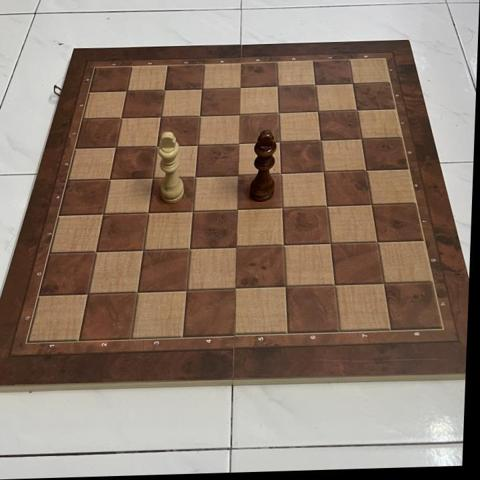xcorner: (269, 77, 287, 95), (309, 102, 327, 120), (312, 131, 330, 149), (187, 167, 205, 185), (363, 195, 381, 213), (345, 74, 362, 92), (156, 82, 174, 99), (270, 104, 288, 121), (231, 105, 248, 123), (153, 108, 170, 126), (271, 133, 289, 150), (231, 134, 248, 152), (149, 137, 166, 155), (315, 163, 333, 180), (273, 164, 290, 182), (229, 200, 247, 217), (140, 203, 157, 221), (275, 236, 293, 253), (135, 241, 152, 259), (88, 243, 106, 260), (375, 274, 393, 291), (228, 279, 245, 297), (179, 281, 196, 299), (129, 283, 147, 300), (80, 285, 98, 302), (307, 76, 324, 93), (232, 79, 249, 96), (194, 80, 211, 97), (119, 83, 136, 100), (349, 101, 366, 118), (192, 107, 209, 124), (114, 110, 131, 127), (353, 130, 370, 147), (190, 136, 207, 153), (108, 139, 125, 156), (358, 161, 375, 178), (230, 166, 247, 183), (145, 169, 162, 186), (102, 171, 119, 188), (319, 197, 336, 214), (274, 199, 291, 216), (185, 202, 202, 219), (96, 205, 113, 222), (369, 233, 386, 250), (322, 235, 339, 252), (229, 238, 246, 255), (182, 240, 199, 257), (326, 276, 343, 293), (277, 278, 294, 295)
